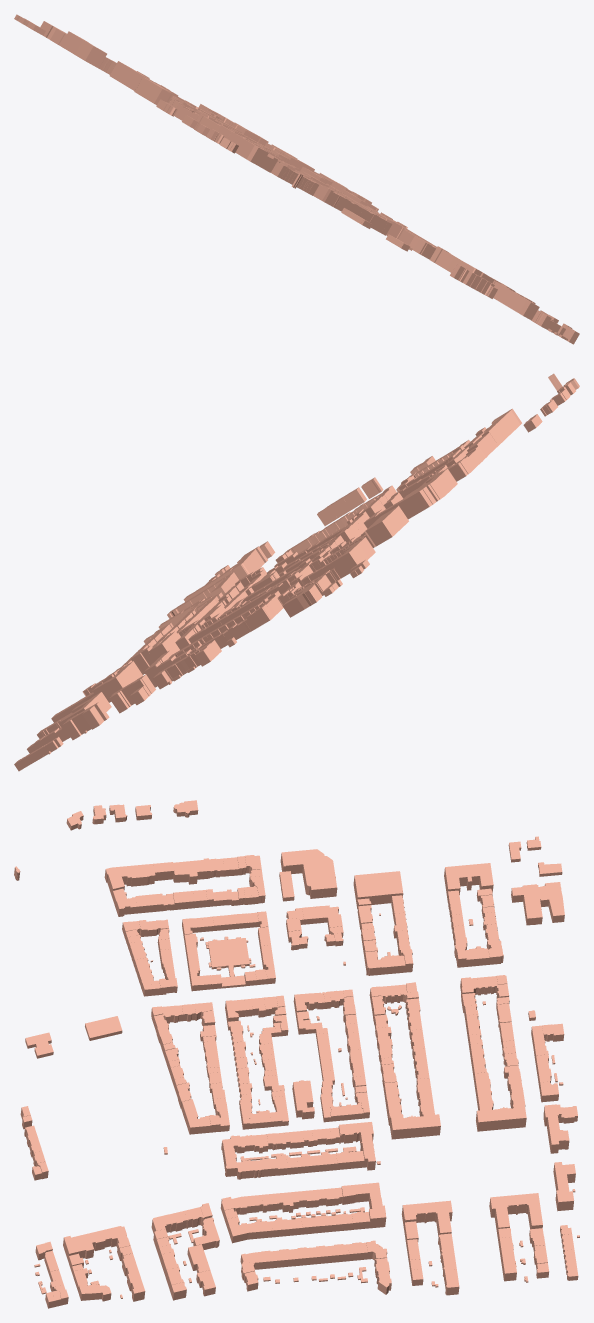
The picture shows the model from 3 angles, top to bottom: view 1: azimuth 30°, elevation 25°; view 2: azimuth 150°, elevation 25°; view 3: azimuth 270°, elevation 25°; orthographic projection. The views are drawn at different scales.
Size of the model in its own units: 510 by 384 by 620.
